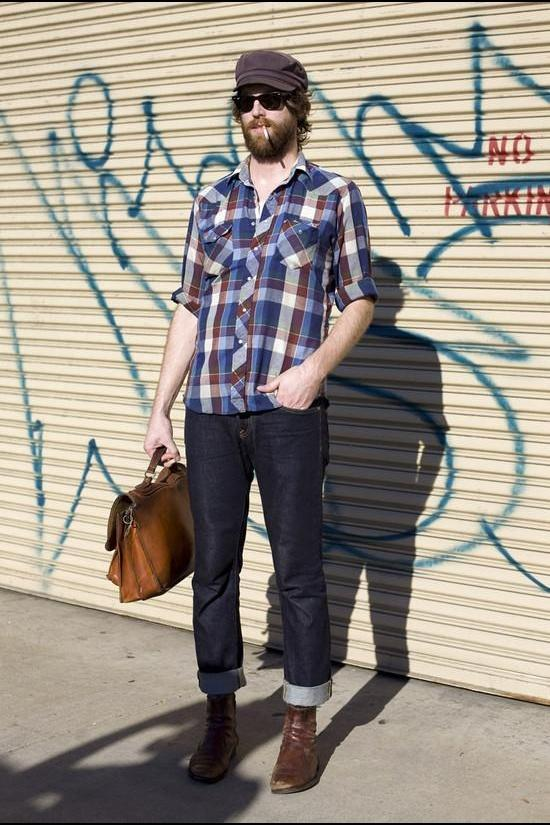pants: (188, 382, 336, 706)
shirt: (171, 153, 379, 417)
